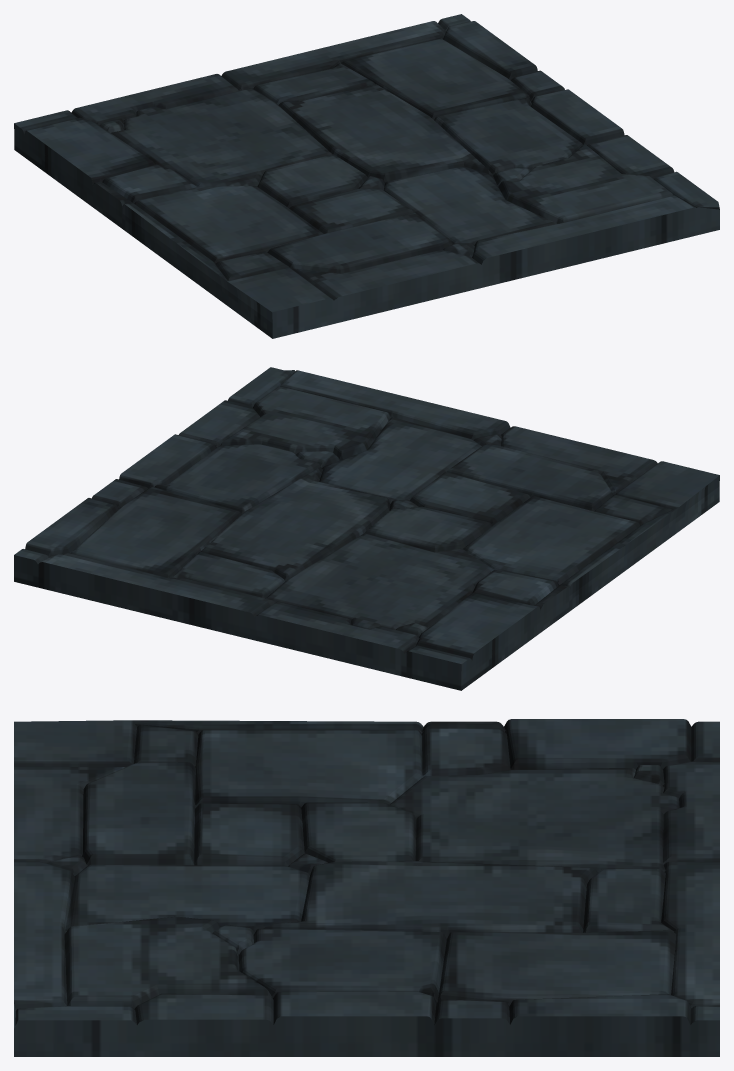
Rendered from floorSmall.fbx.
3 views of the same model, one above another, from view 1: azimuth 30°, elevation 25°; view 2: azimuth 150°, elevation 25°; view 3: azimuth 270°, elevation 25° (orthographic). The views are drawn at different scales.
Parts seen in each view (by area): view 1: floorSmall; view 2: floorSmall; view 3: floorSmall.
Boxes of the visible parts, <box> form: floorSmall: <box>14,14,719,338</box>; floorSmall: <box>14,367,719,690</box>; floorSmall: <box>14,719,719,1056</box>.
Size of the model in its own units: 302 by 19.72 by 300.
1 material, 1 textured.
